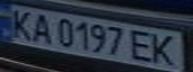0: (51, 16, 75, 48)
1: (69, 19, 90, 52)
7: (106, 24, 130, 57)
9: (87, 21, 109, 54)
A: (27, 11, 57, 44)
E: (127, 28, 160, 63)
K: (148, 33, 184, 69), (3, 7, 39, 40)
